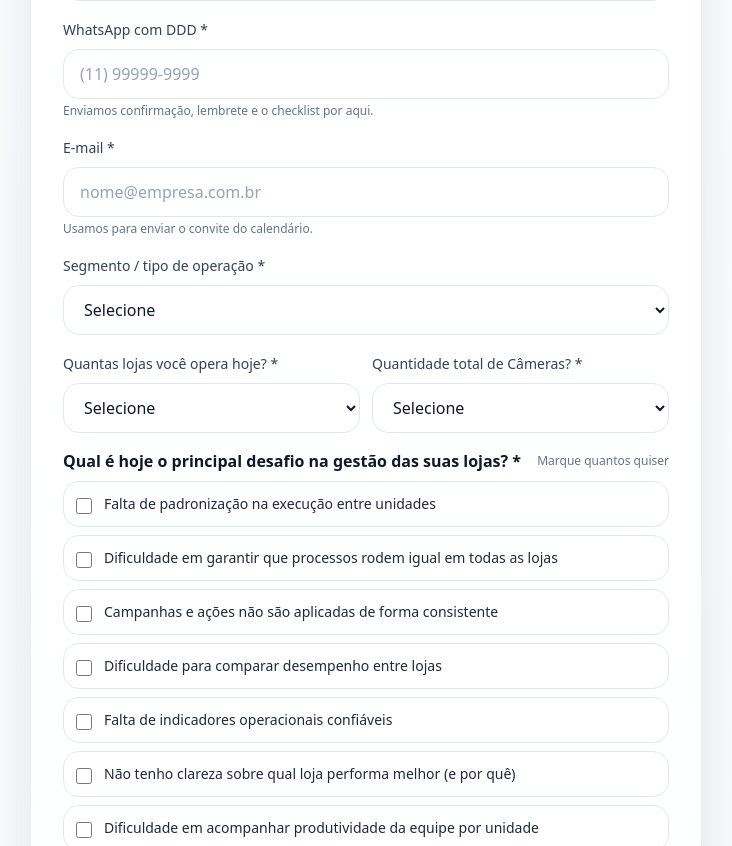
Test: AgendarDemo › permite selecionar múltiplos desafios e mostra 'Outro' quando selecionado
(page scrolled)
Select "2–5" in the dropdown labelled "Quantas lojas você opera hoje? *" at (212,408), box [63,383,360,433]
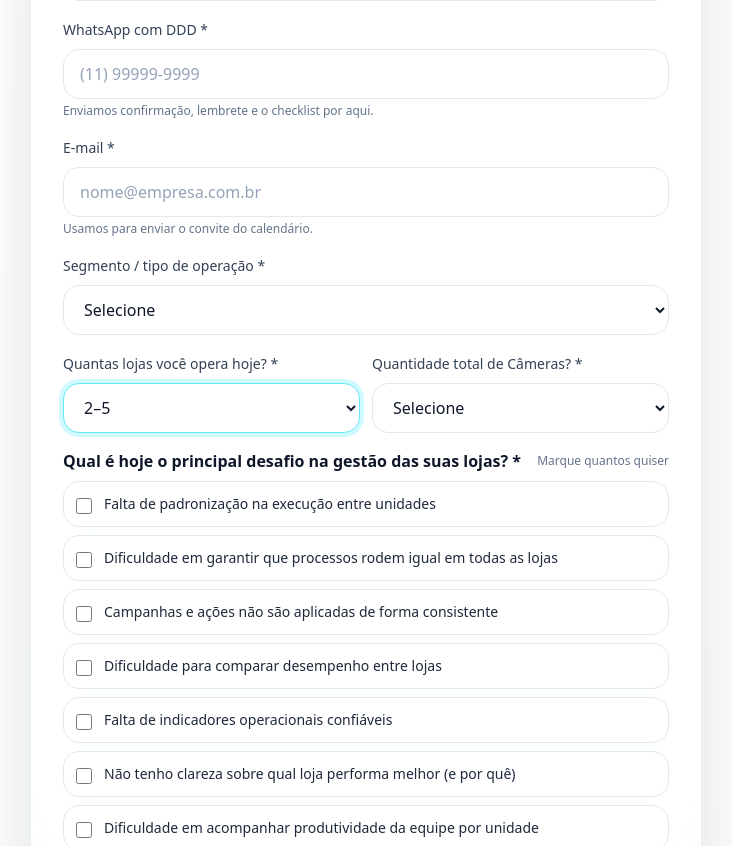
Click the checkbox labelled "Falta de padronização na execução entre unidades".
click(84, 506)  # box [76,498,92,514]
(page scrolled)
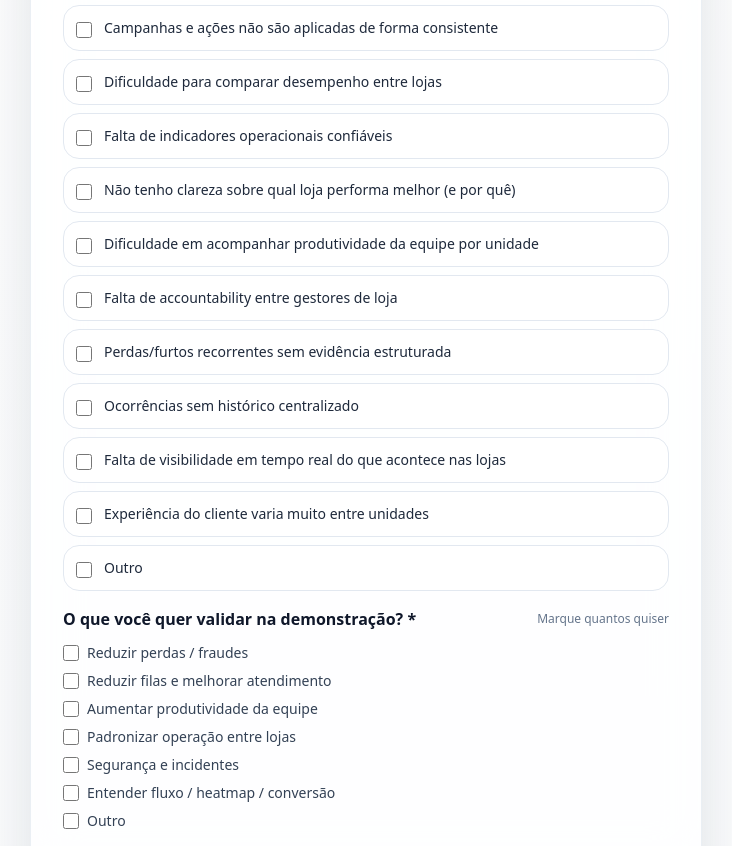
Click the checkbox labelled "Ocorrências sem histórico centralizado".
click(84, 408)  # box [76,400,92,416]
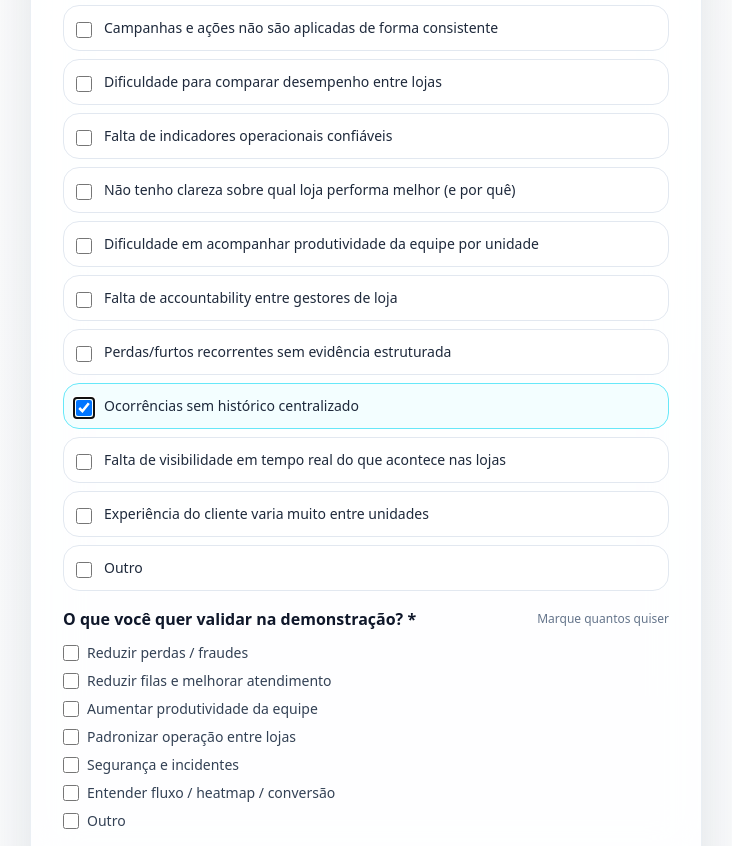
Click the checkbox labelled "Outro" below "Ocorrências sem histórico centralizado".
click(84, 570)  # box [76,562,92,578]
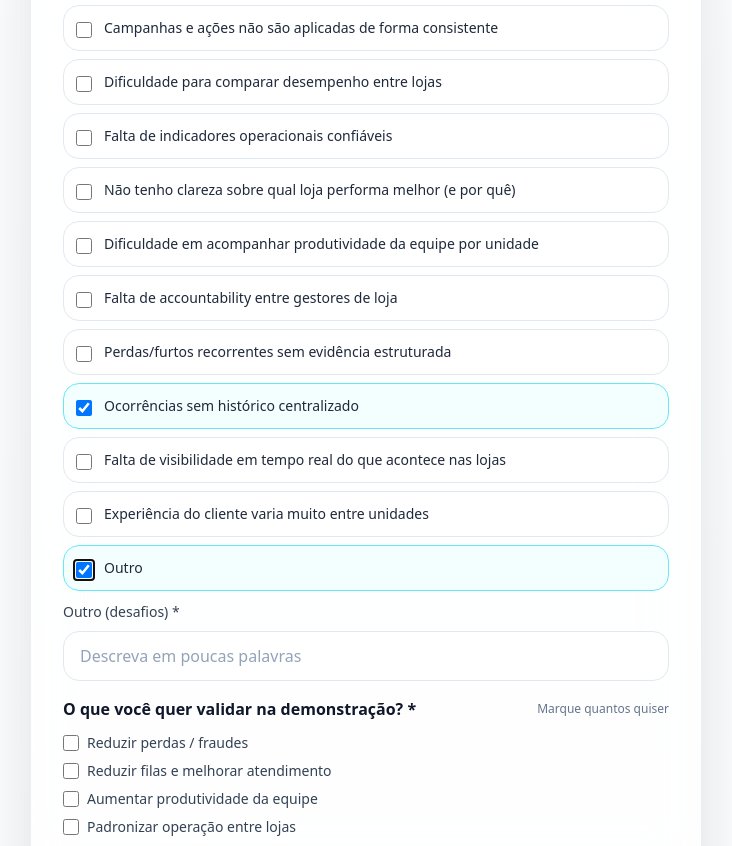
Now the field labelled "Outro (desafios) *" is shown, box [63,631,669,681]
